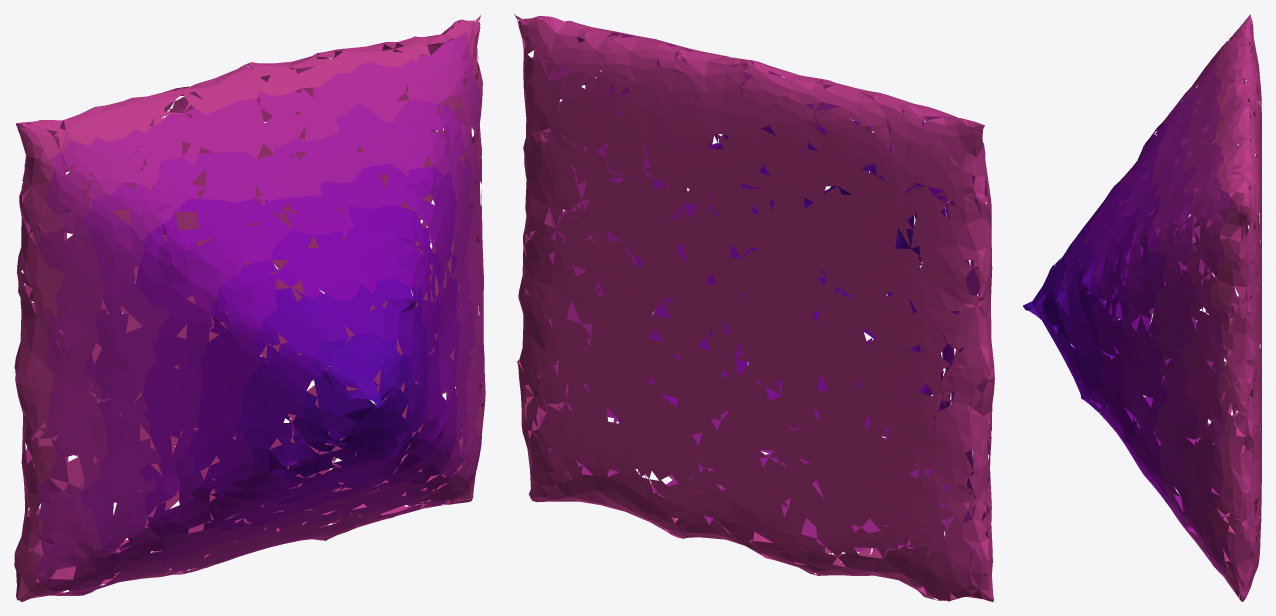
File: blender_pyramid.obj
3 views of the same model, side by side, from view 1: azimuth 30°, elevation 25°; view 2: azimuth 150°, elevation 25°; view 3: azimuth 270°, elevation 25° (orthographic). The views are drawn at different scales.
Visible parts, largest first — view 1: vivid_3d_obj; view 2: vivid_3d_obj; view 3: vivid_3d_obj.
Part boxes in pixels (left/top/right/bottom): vivid_3d_obj: left=14, top=15, right=485, bottom=601; vivid_3d_obj: left=514, top=14, right=994, bottom=601; vivid_3d_obj: left=1023, top=14, right=1261, bottom=601.
Size of the model in its own units: 4.49 by 4.49 by 2.37.
